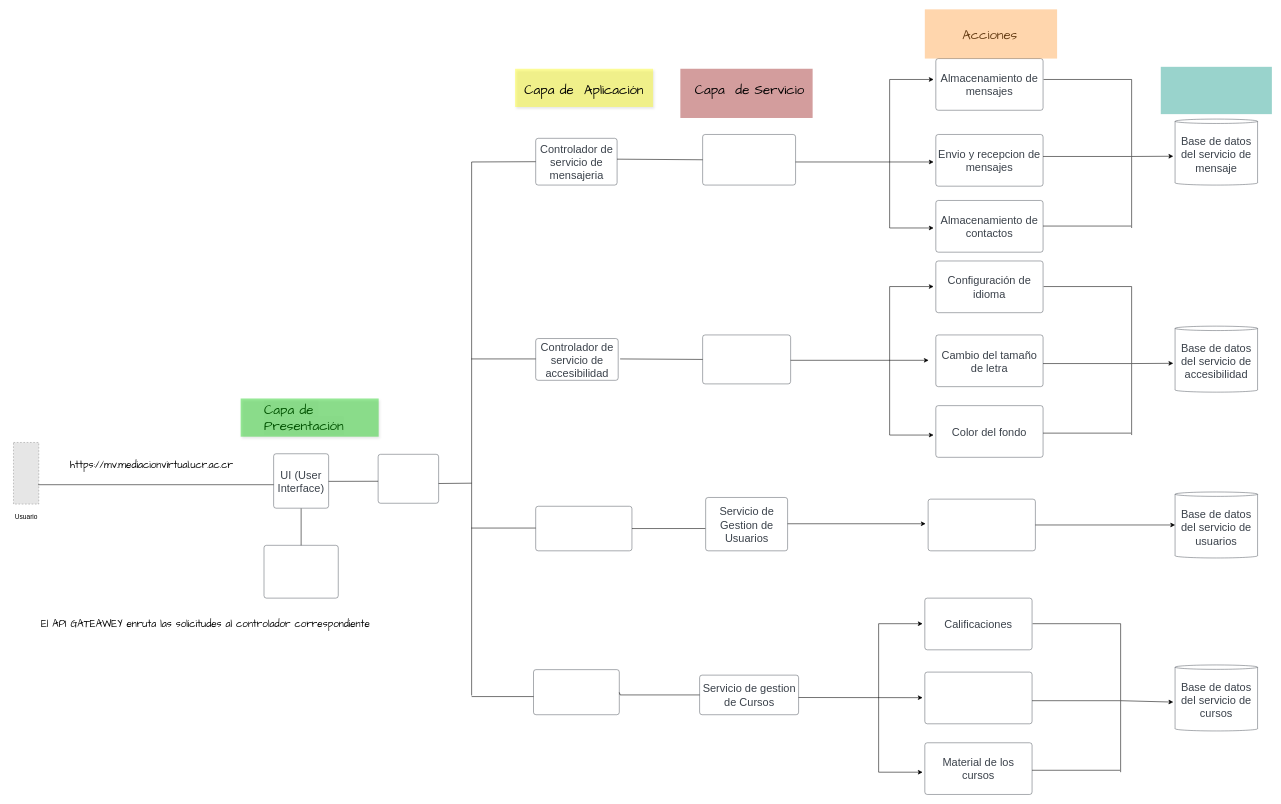
Some shapes in this 1281 by 804 pixel diagram are drawn without their labels. Grey dashed boxes stand in for pictures. Each missing label, with the centre of its shape:
API GATEAWAY: (408,478)
Capa de Datos: (1216,90)
Controlador de servicios cursos: (576,692)
Controlador de servicios de usuarios: (583,528)
Datos personales del usuario: (981,525)
Evaluaciones: (978,698)
Servicio de Accesibilidad: (746,359)
Servicio de mensajeria: (749,159)
Sistema de autenticación: (301,571)
